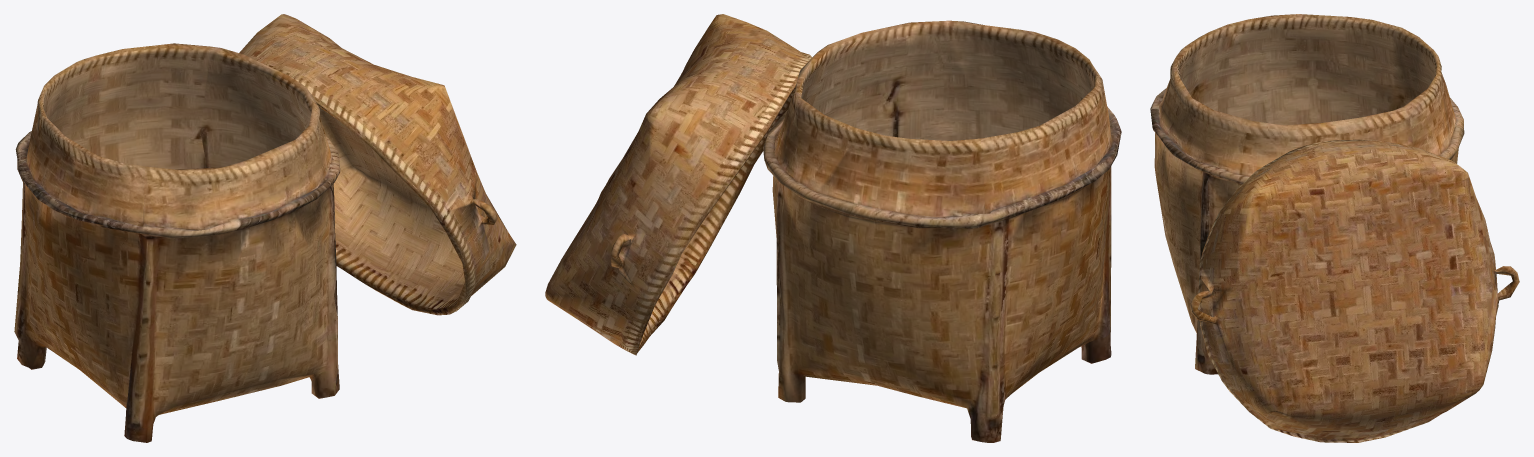
The model's file is wicker_basket_02.glb.
The picture shows the model from 3 angles, left to right: view 1: azimuth 30°, elevation 25°; view 2: azimuth 150°, elevation 25°; view 3: azimuth 270°, elevation 25°; orthographic projection. The views are drawn at different scales.
Parts seen in each view (by area): view 1: wicker_basket_02_base, wicker_basket_02_lid; view 2: wicker_basket_02_base, wicker_basket_02_lid; view 3: wicker_basket_02_lid, wicker_basket_02_base.
Boxes of the visible parts, left/top/right/bottom form: wicker_basket_02_base: left=14, top=43, right=340, bottom=442; wicker_basket_02_lid: left=239, top=14, right=516, bottom=315; wicker_basket_02_base: left=763, top=20, right=1121, bottom=442; wicker_basket_02_lid: left=545, top=14, right=812, bottom=355; wicker_basket_02_lid: left=1190, top=139, right=1519, bottom=442; wicker_basket_02_base: left=1150, top=14, right=1464, bottom=374.
Size of the model in its own units: 0.3467 by 0.1999 by 0.2541.
Materials: 1 (1 with a texture image).
